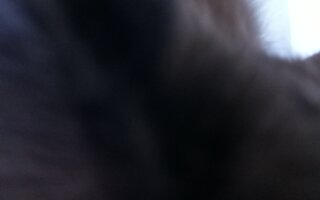clara: (3, 6, 318, 198)
